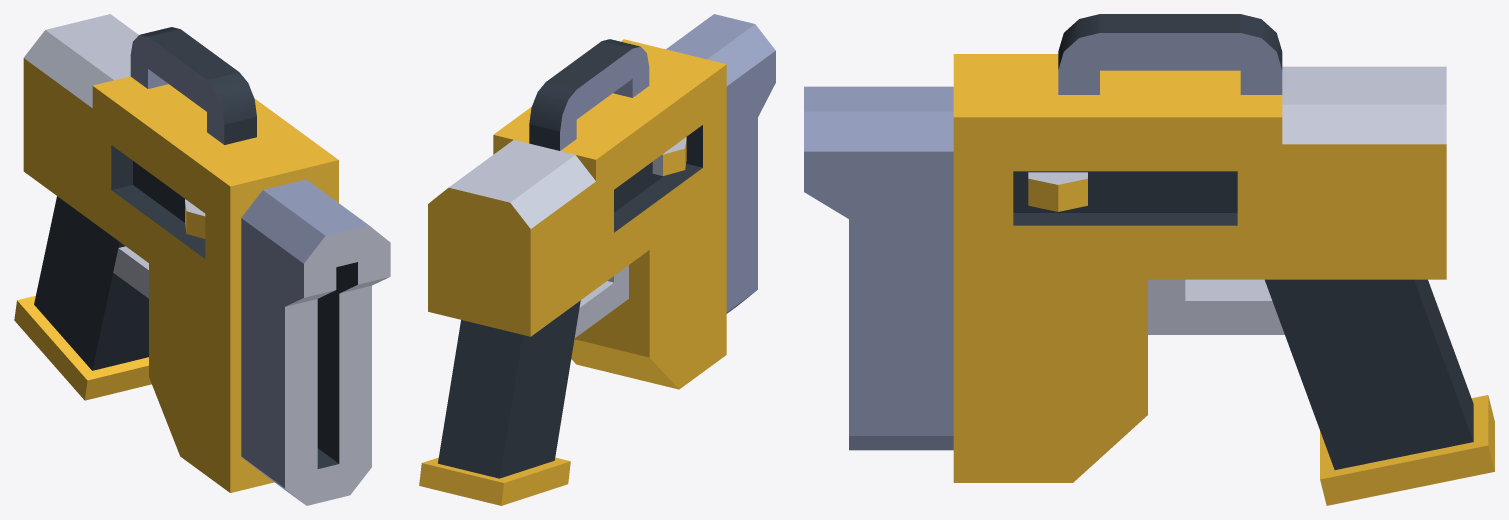
File: blasterK.glb
The picture shows the model from 3 angles, left to right: view 1: azimuth 30°, elevation 25°; view 2: azimuth 150°, elevation 25°; view 3: azimuth 270°, elevation 25°; orthographic projection. The views are drawn at different scales.
Visible parts, largest first — view 1: blasterK; view 2: blasterK; view 3: blasterK.
Boxes of the visible parts, x1,y1,x2,y2 form: blasterK: [14, 14, 390, 505]; blasterK: [419, 14, 775, 505]; blasterK: [804, 14, 1494, 505].
Size of the model in its own units: 0.1 by 0.3376 by 0.4622.
